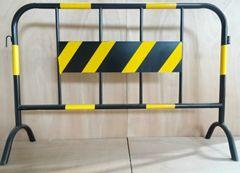sign: (3, 1, 240, 169)
